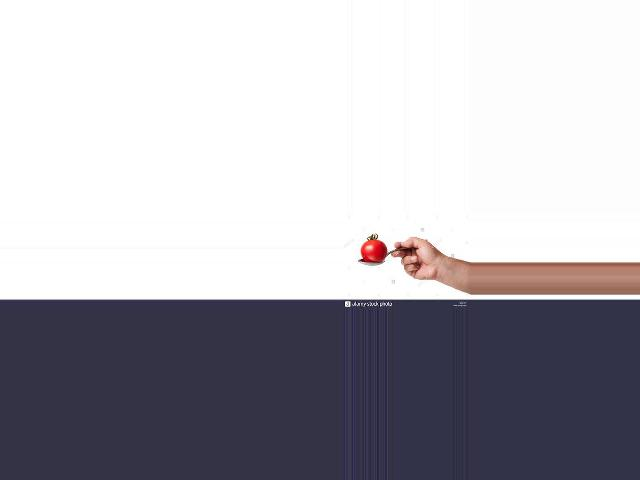tomato: (361, 239, 387, 262)
